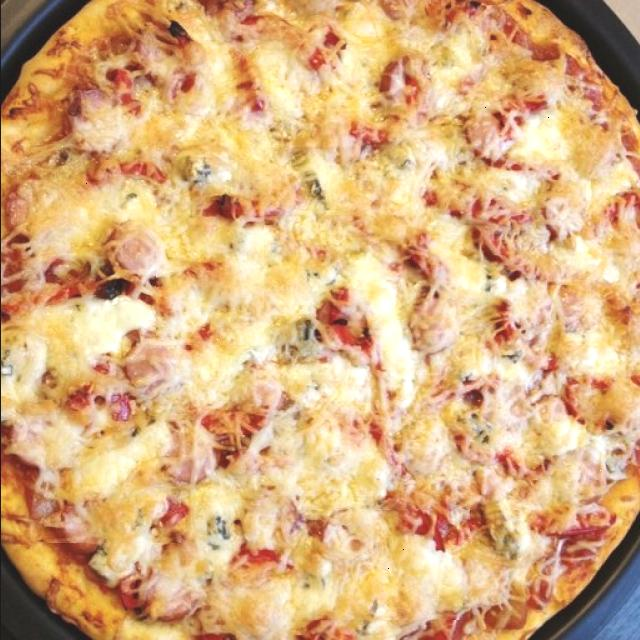cheese: (450, 170, 606, 346), (288, 164, 436, 304), (253, 352, 391, 496), (242, 21, 386, 147), (465, 357, 604, 487), (312, 509, 468, 620), (43, 417, 180, 542), (155, 210, 263, 344), (16, 144, 137, 262), (117, 45, 236, 157), (483, 59, 601, 162)
pizza: (0, 0, 640, 640)
